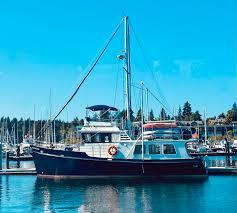Ship: (34, 17, 208, 179)
